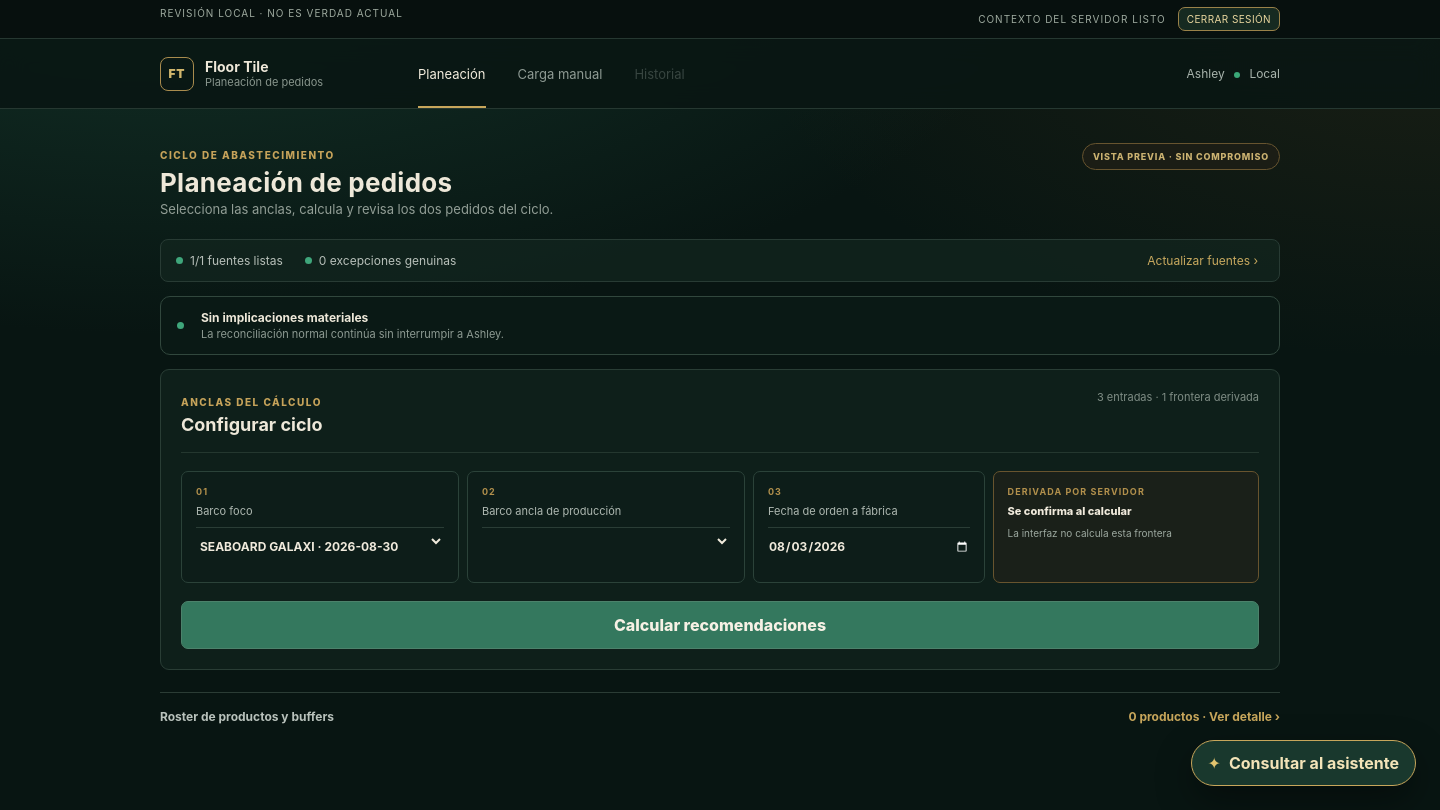
protected Composer shell › signs out from the protected shell
This screenshot has width=1440, height=810.
Expected: the heading "Planeación de pedidos" is shown, [160,167,452,198]
Click the button "Cerrar sesión": (1229, 19) [1178,7,1280,31]
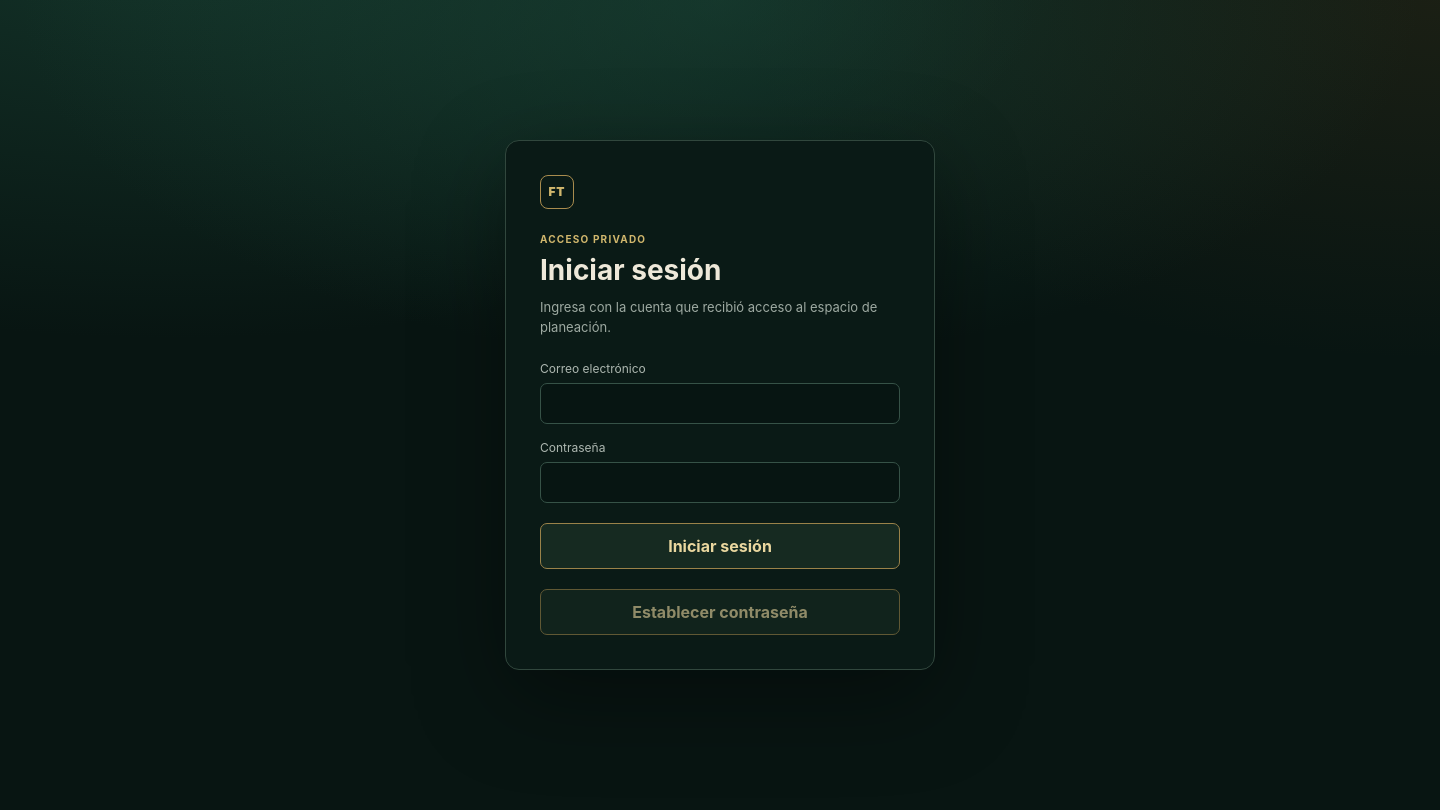
Result: the heading "Iniciar sesión" is shown at [540,253,722,287]
